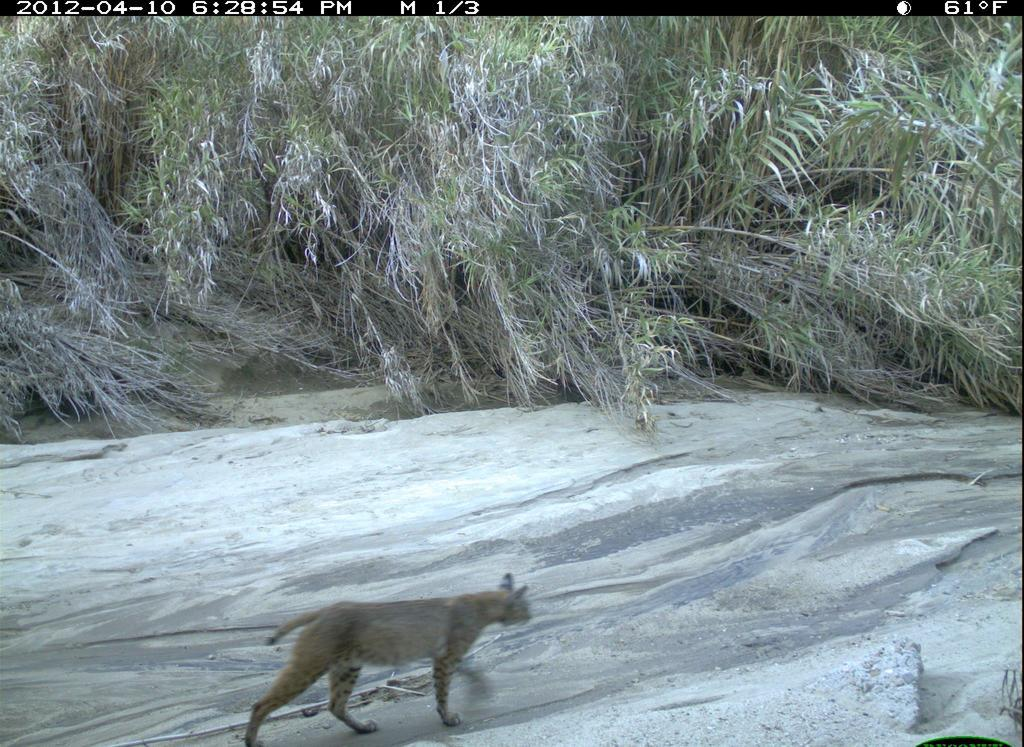bobcat: (212, 566, 541, 745)
